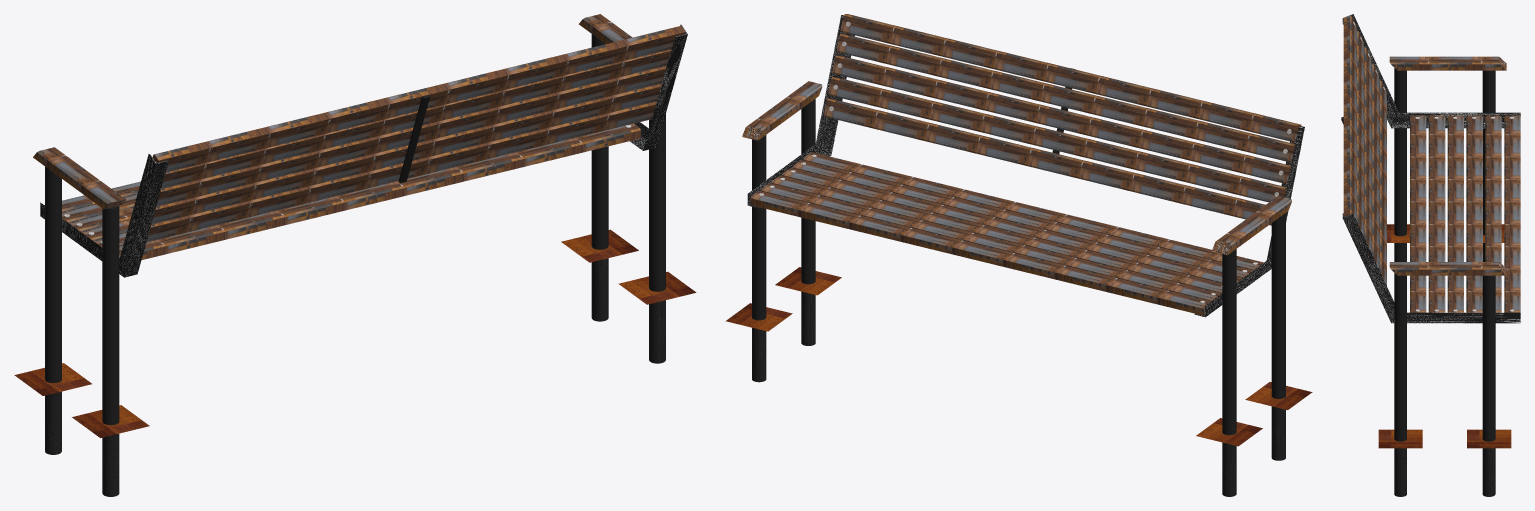
3 views of the same model, side by side, from view 1: azimuth 30°, elevation 25°; view 2: azimuth 150°, elevation 25°; view 3: azimuth 270°, elevation 25° (orthographic). The views are drawn at different scales.
Visible parts, largest first — view 1: mesh8_mesh8-geometry, mesh11_mesh11-geometry, mesh3_mesh3-geometry, mesh16_mesh16-geometry, mesh9_mesh9-geometry, mesh7_mesh7-geometry, mesh15_mesh15-geometry, mesh10_mesh10-geometry, mesh1_mesh1-geometry; view 2: mesh8_mesh8-geometry, mesh11_mesh11-geometry, mesh3_mesh3-geometry, mesh9_mesh9-geometry, mesh7_mesh7-geometry, mesh15_mesh15-geometry, mesh10_mesh10-geometry, mesh16_mesh16-geometry; view 3: mesh8_mesh8-geometry, mesh3_mesh3-geometry, mesh9_mesh9-geometry, mesh11_mesh11-geometry, mesh10_mesh10-geometry, mesh7_mesh7-geometry, mesh16_mesh16-geometry, mesh15_mesh15-geometry.
Part boxes in pixels (box(x1,y1,x2,y2)): mesh8_mesh8-geometry: box(44, 26, 685, 259); mesh11_mesh11-geometry: box(45, 166, 119, 496); mesh3_mesh3-geometry: box(591, 34, 665, 363); mesh16_mesh16-geometry: box(40, 154, 168, 277); mesh9_mesh9-geometry: box(33, 14, 632, 209); mesh7_mesh7-geometry: box(561, 229, 696, 304); mesh15_mesh15-geometry: box(14, 363, 149, 437); mesh10_mesh10-geometry: box(630, 24, 687, 150); mesh1_mesh1-geometry: box(398, 94, 429, 182); mesh8_mesh8-geometry: box(750, 14, 1301, 315); mesh11_mesh11-geometry: box(1222, 213, 1285, 496); mesh3_mesh3-geometry: box(752, 99, 815, 382); mesh9_mesh9-geometry: box(742, 81, 1291, 255); mesh7_mesh7-geometry: box(725, 267, 841, 331); mesh15_mesh15-geometry: box(1196, 382, 1312, 446); mesh10_mesh10-geometry: box(747, 15, 854, 208); mesh16_mesh16-geometry: box(1194, 126, 1304, 317); mesh8_mesh8-geometry: box(1343, 15, 1520, 312); mesh3_mesh3-geometry: box(1394, 273, 1495, 496); mesh9_mesh9-geometry: box(1389, 56, 1506, 275); mesh11_mesh11-geometry: box(1394, 68, 1495, 261); mesh10_mesh10-geometry: box(1342, 213, 1520, 323); mesh7_mesh7-geometry: box(1378, 429, 1511, 448); mesh16_mesh16-geometry: box(1342, 14, 1520, 128); mesh15_mesh15-geometry: box(1387, 224, 1504, 242).
Bounding box in the file's own units: 0.831 × 0.48 × 0.281.
